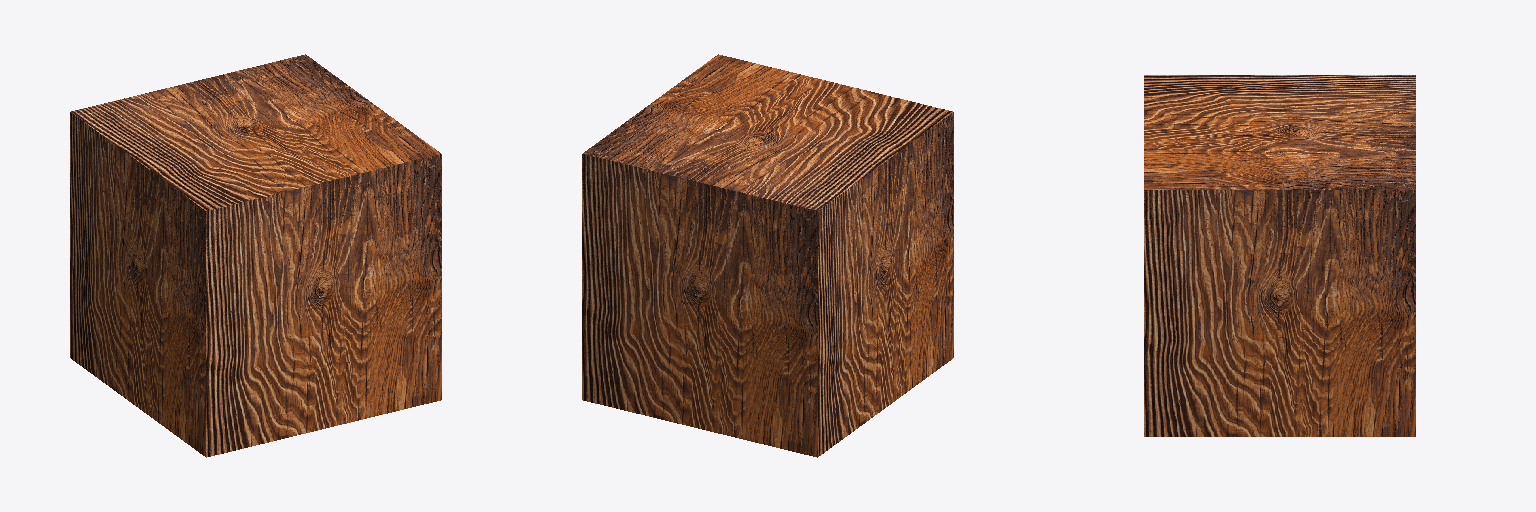
3 views of the same model, side by side, from view 1: azimuth 30°, elevation 25°; view 2: azimuth 150°, elevation 25°; view 3: azimuth 270°, elevation 25° (orthographic).
Parts seen in each view (by area): view 1: cube; view 2: cube; view 3: cube.
Part boxes in pixels (bbox=[...]): cube: bbox=[70, 54, 441, 457]; cube: bbox=[582, 54, 953, 457]; cube: bbox=[1144, 75, 1415, 436].
Size of the model in its own units: 1 by 1 by 1.
1 materials, 1 textured.